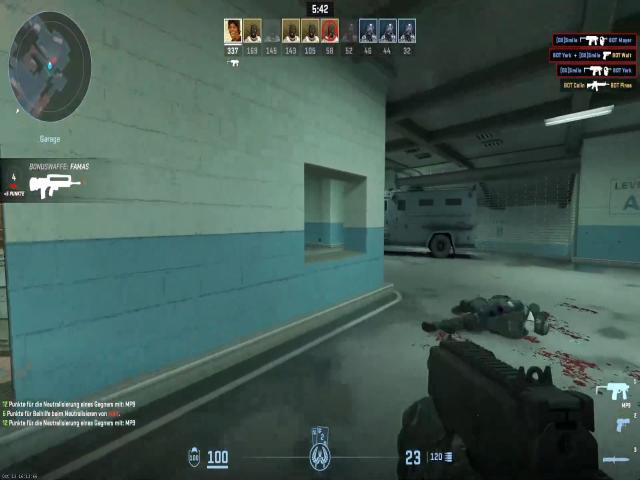Dead: (422, 284, 554, 338)
